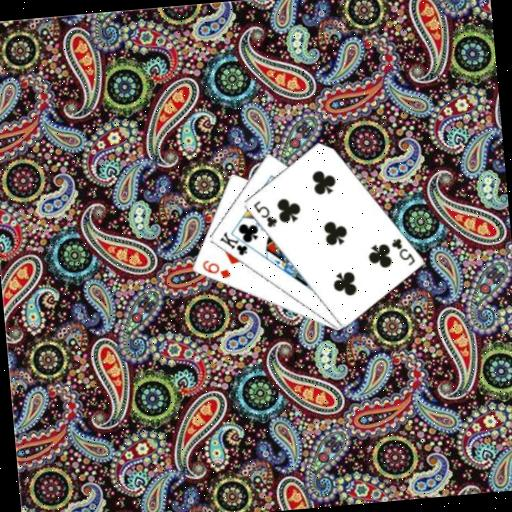5C: (250, 196, 280, 231), (387, 234, 417, 269)
6D: (199, 256, 233, 282)
KC: (216, 226, 255, 258)
